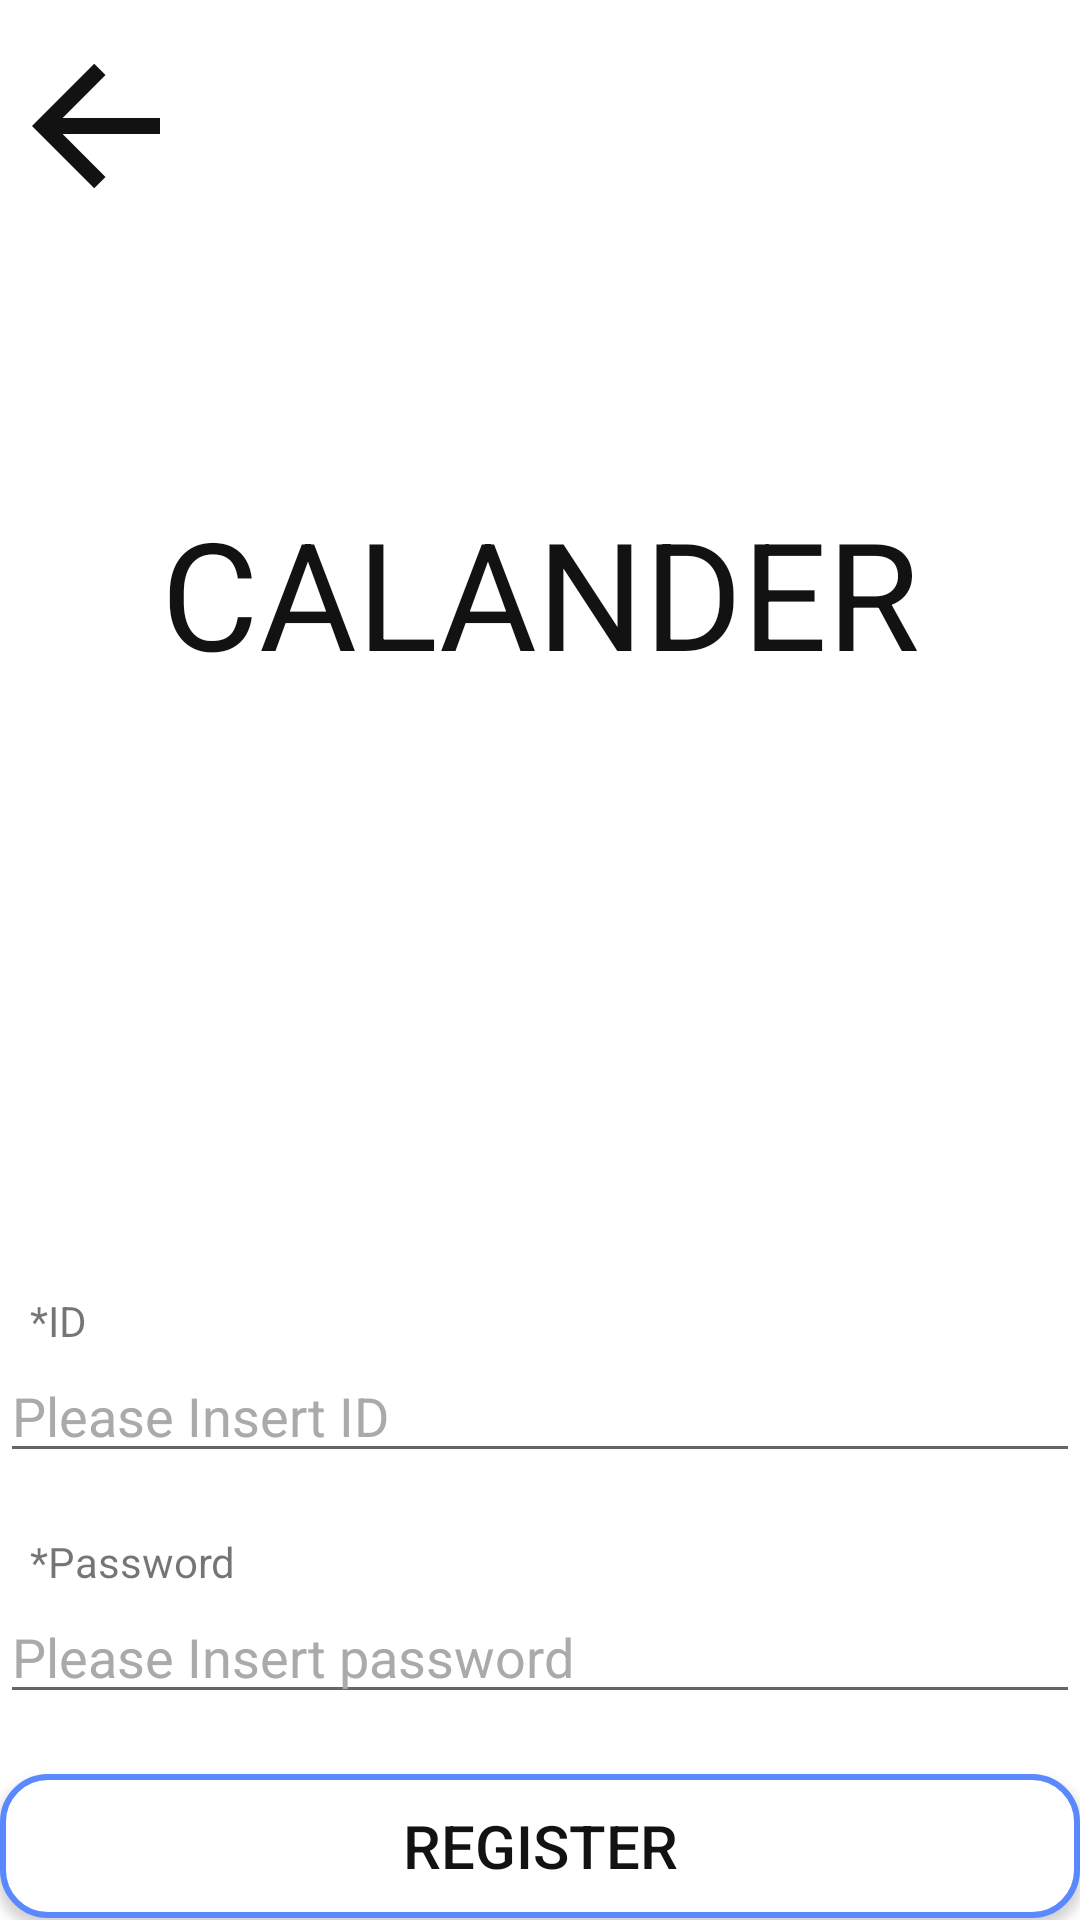

Screen size 1080px x 1920px. Icon name, then its box in pixels as (x1, y1, x2, y2):
arrow left line: (32, 64, 160, 188)
